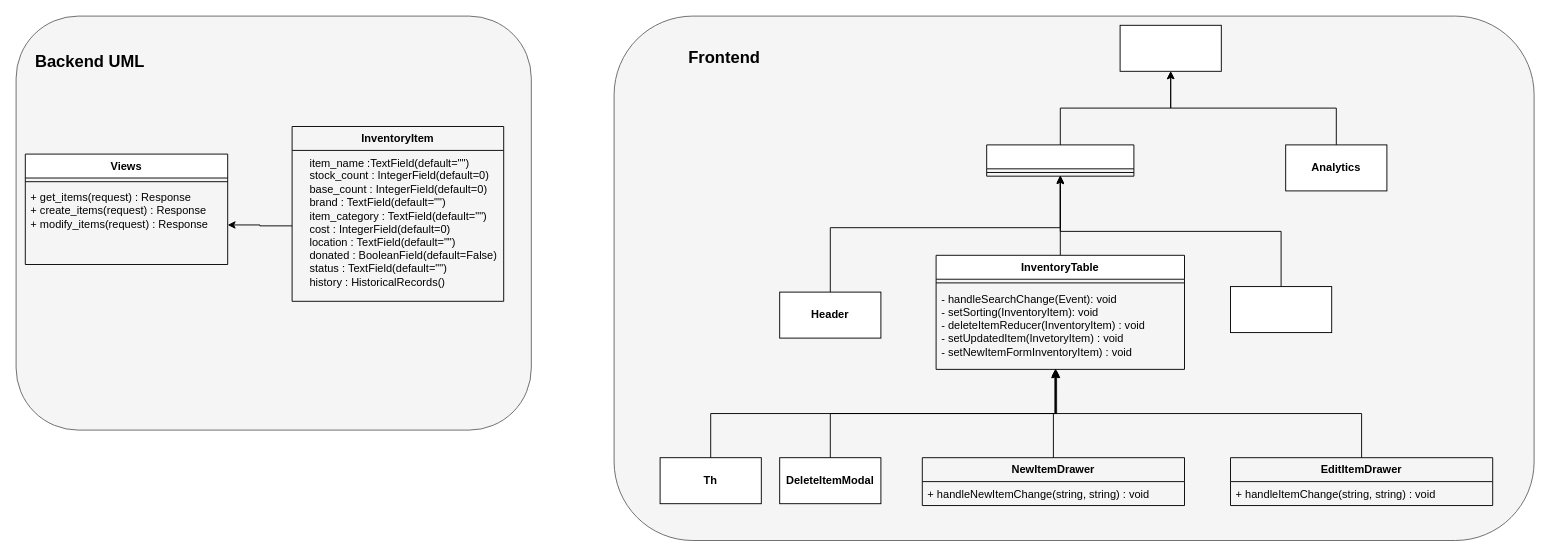
Image size: 1550x557. Some labels were removed from this diagram. The shapes that lost their labels are listed below. From the top down, each one's centre as x and y in pixels, then its label:
At point (1170, 47): "App".
At point (1060, 160): "Home".
At point (1281, 309): "NavBar".
